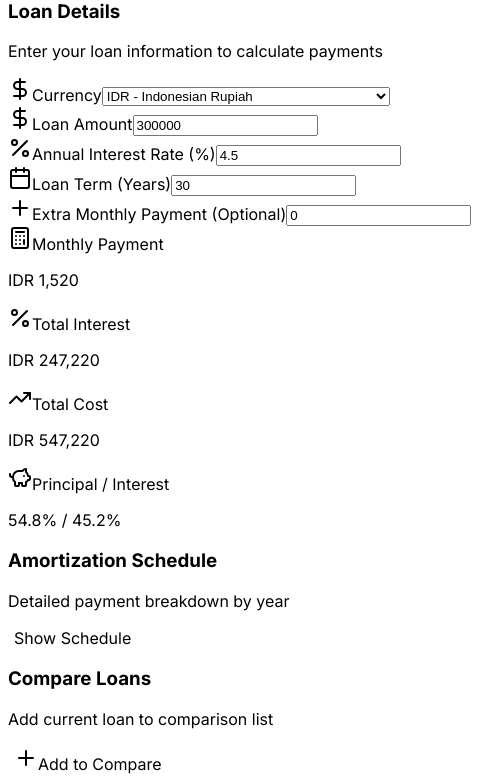
Test case: Loan Calculator Page › Amortization Schedule › displays year summaries in schedule
The image size is (488, 783).
(page scrolled)
Click the button "Show Schedule": click(73, 638) [8,627,137,649]
(page scrolled)
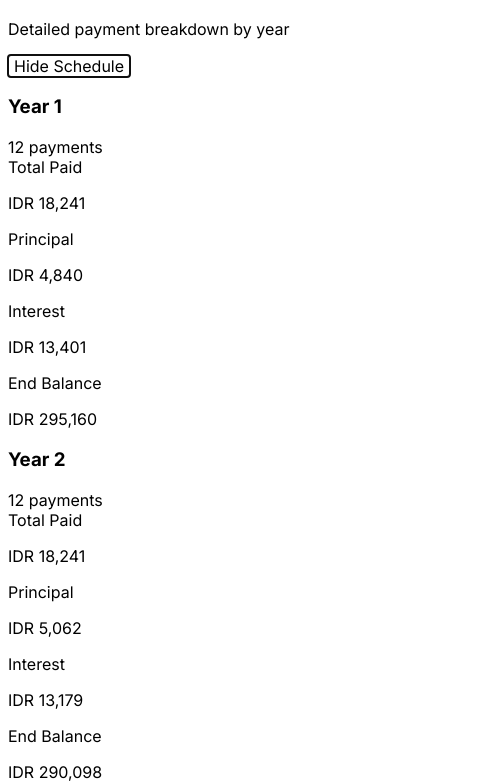
Expected: the heading "Year 1" is shown, [8,96,62,118]
Expected: the 1st text "Total Paid" is shown, [8,157,82,177]
Expected: the text "End Balance" below "IDR 13,401" is shown, [8,373,102,393]
